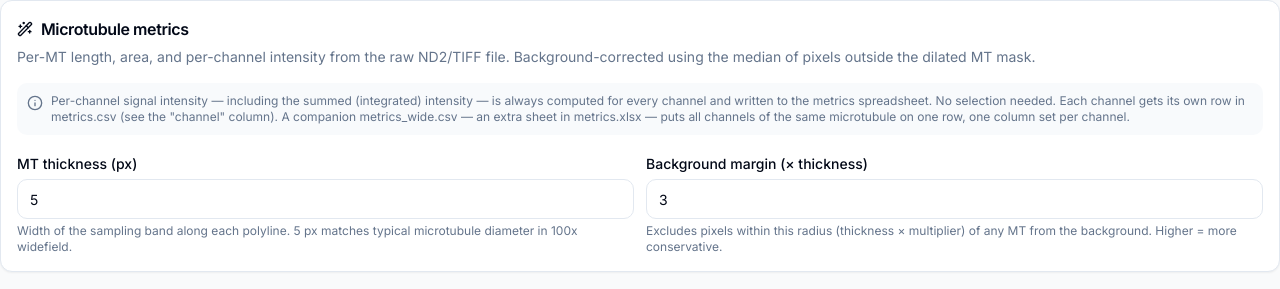
MicrotubuleMetricsSection › margin input › snaps back to last good value on blur when invalid
The width and height of the screenshot is (1280, 289).
Replace the text in the number field labelled "Background margin (× thickness)" with "99": (954, 199) [646,179,1263,219]
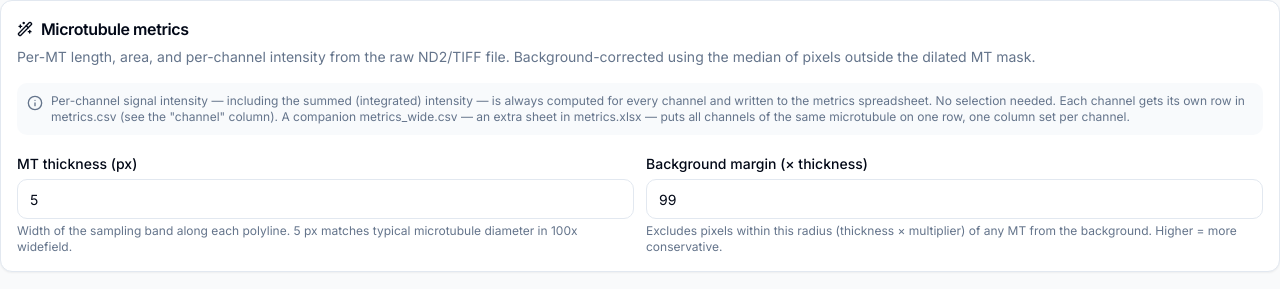
Leave the number field labelled "Background margin (× thickness)", box [646,179,1263,219]
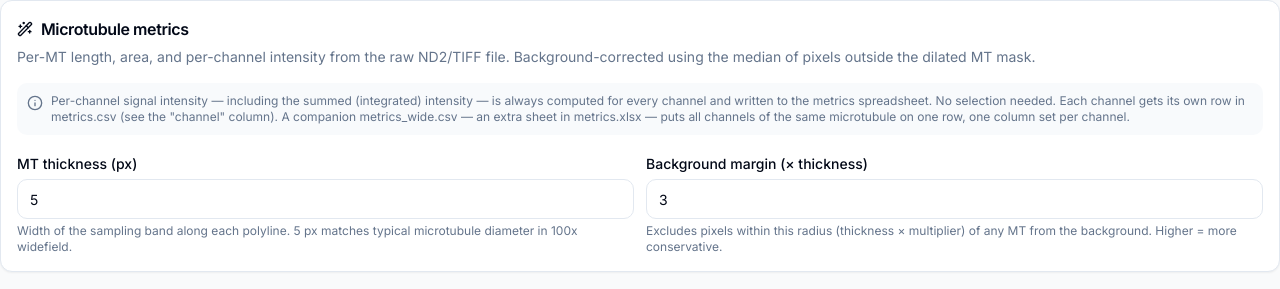
Now the number field labelled "Background margin (× thickness)" holds "3", box [646,179,1263,219]
